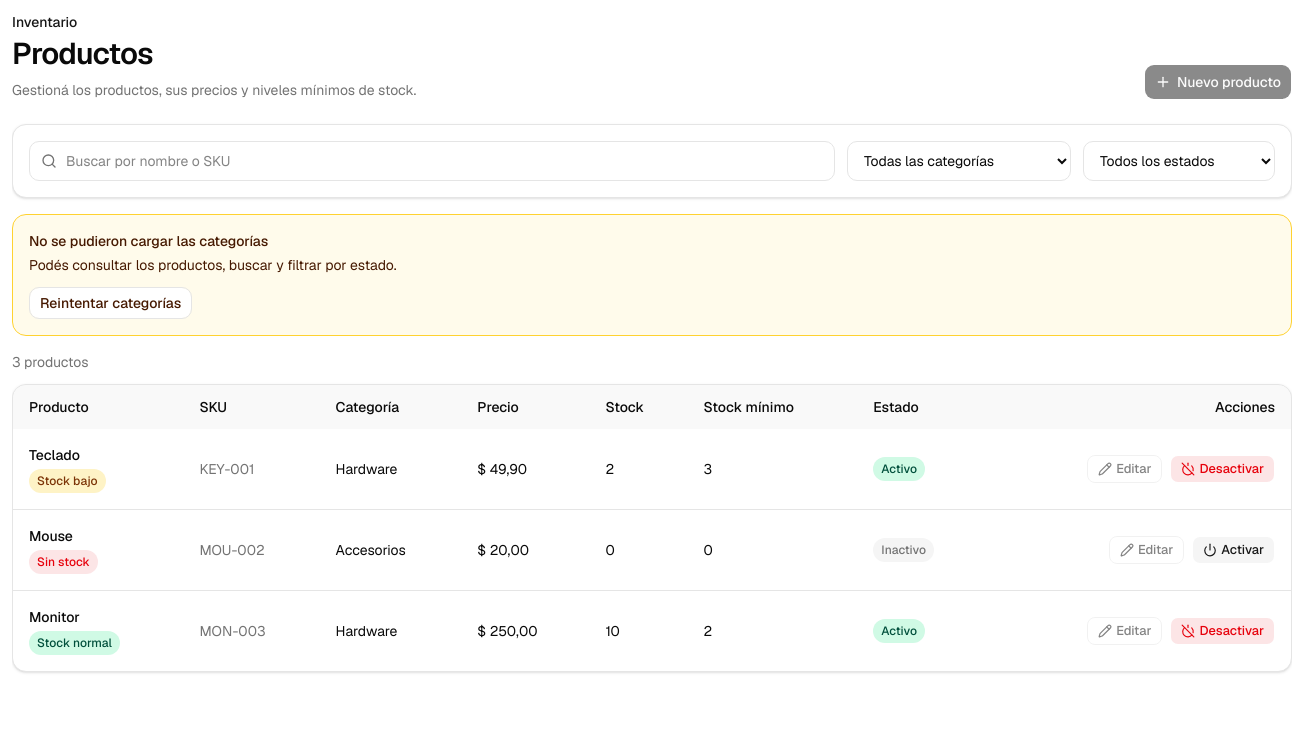
ProductsPage › keeps products usable when categories fail
Expected: the message shows "No se pudieron cargar las categorías", 29,232 -> 268,250
Expected: the button "Nuevo producto" is disabled, 1144,64 -> 1292,100
Click the button "Reintentar categorías".
click(111, 303)  # box 29,287 -> 192,319
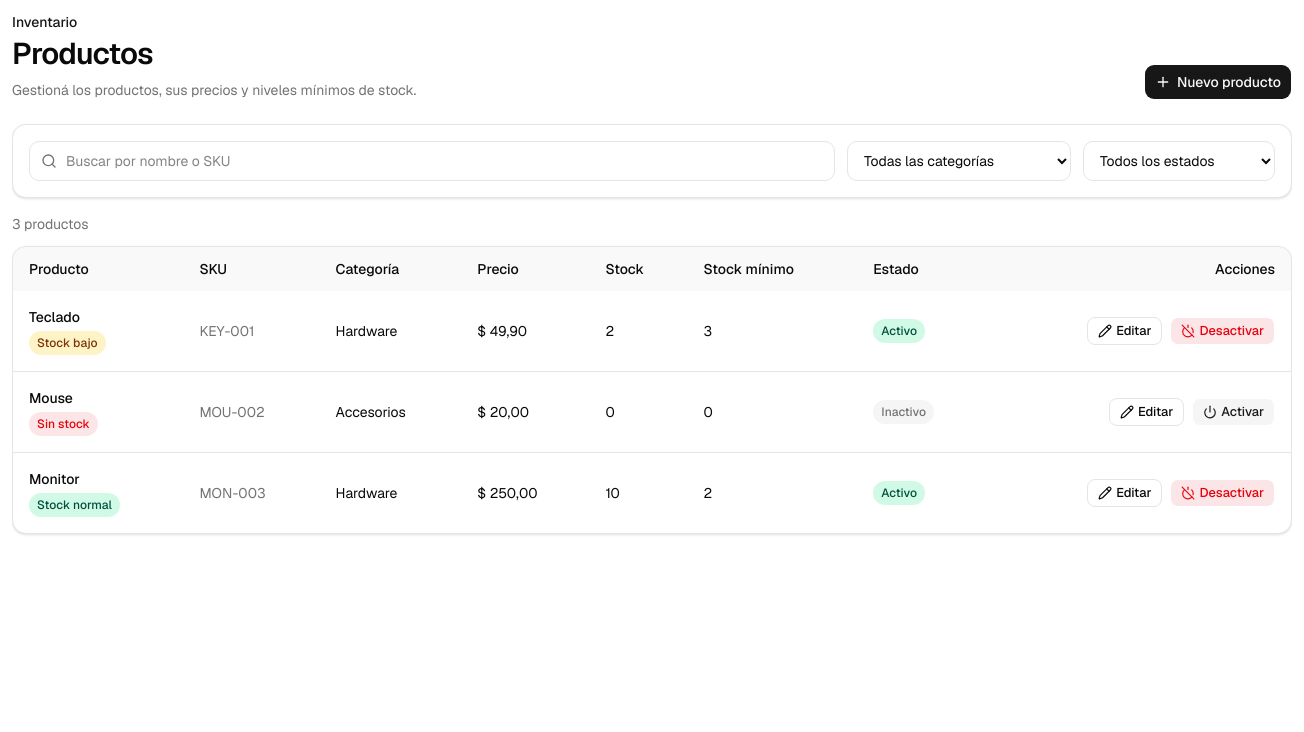
Expected: the 1st dropdown named "Filtrar por categoría" is enabled, 847,141 -> 1071,181
Expected: the button "Nuevo producto" is enabled, 1144,64 -> 1292,100
Expected: the button with aria-label "Editar Teclado" is enabled, 1087,317 -> 1162,345
